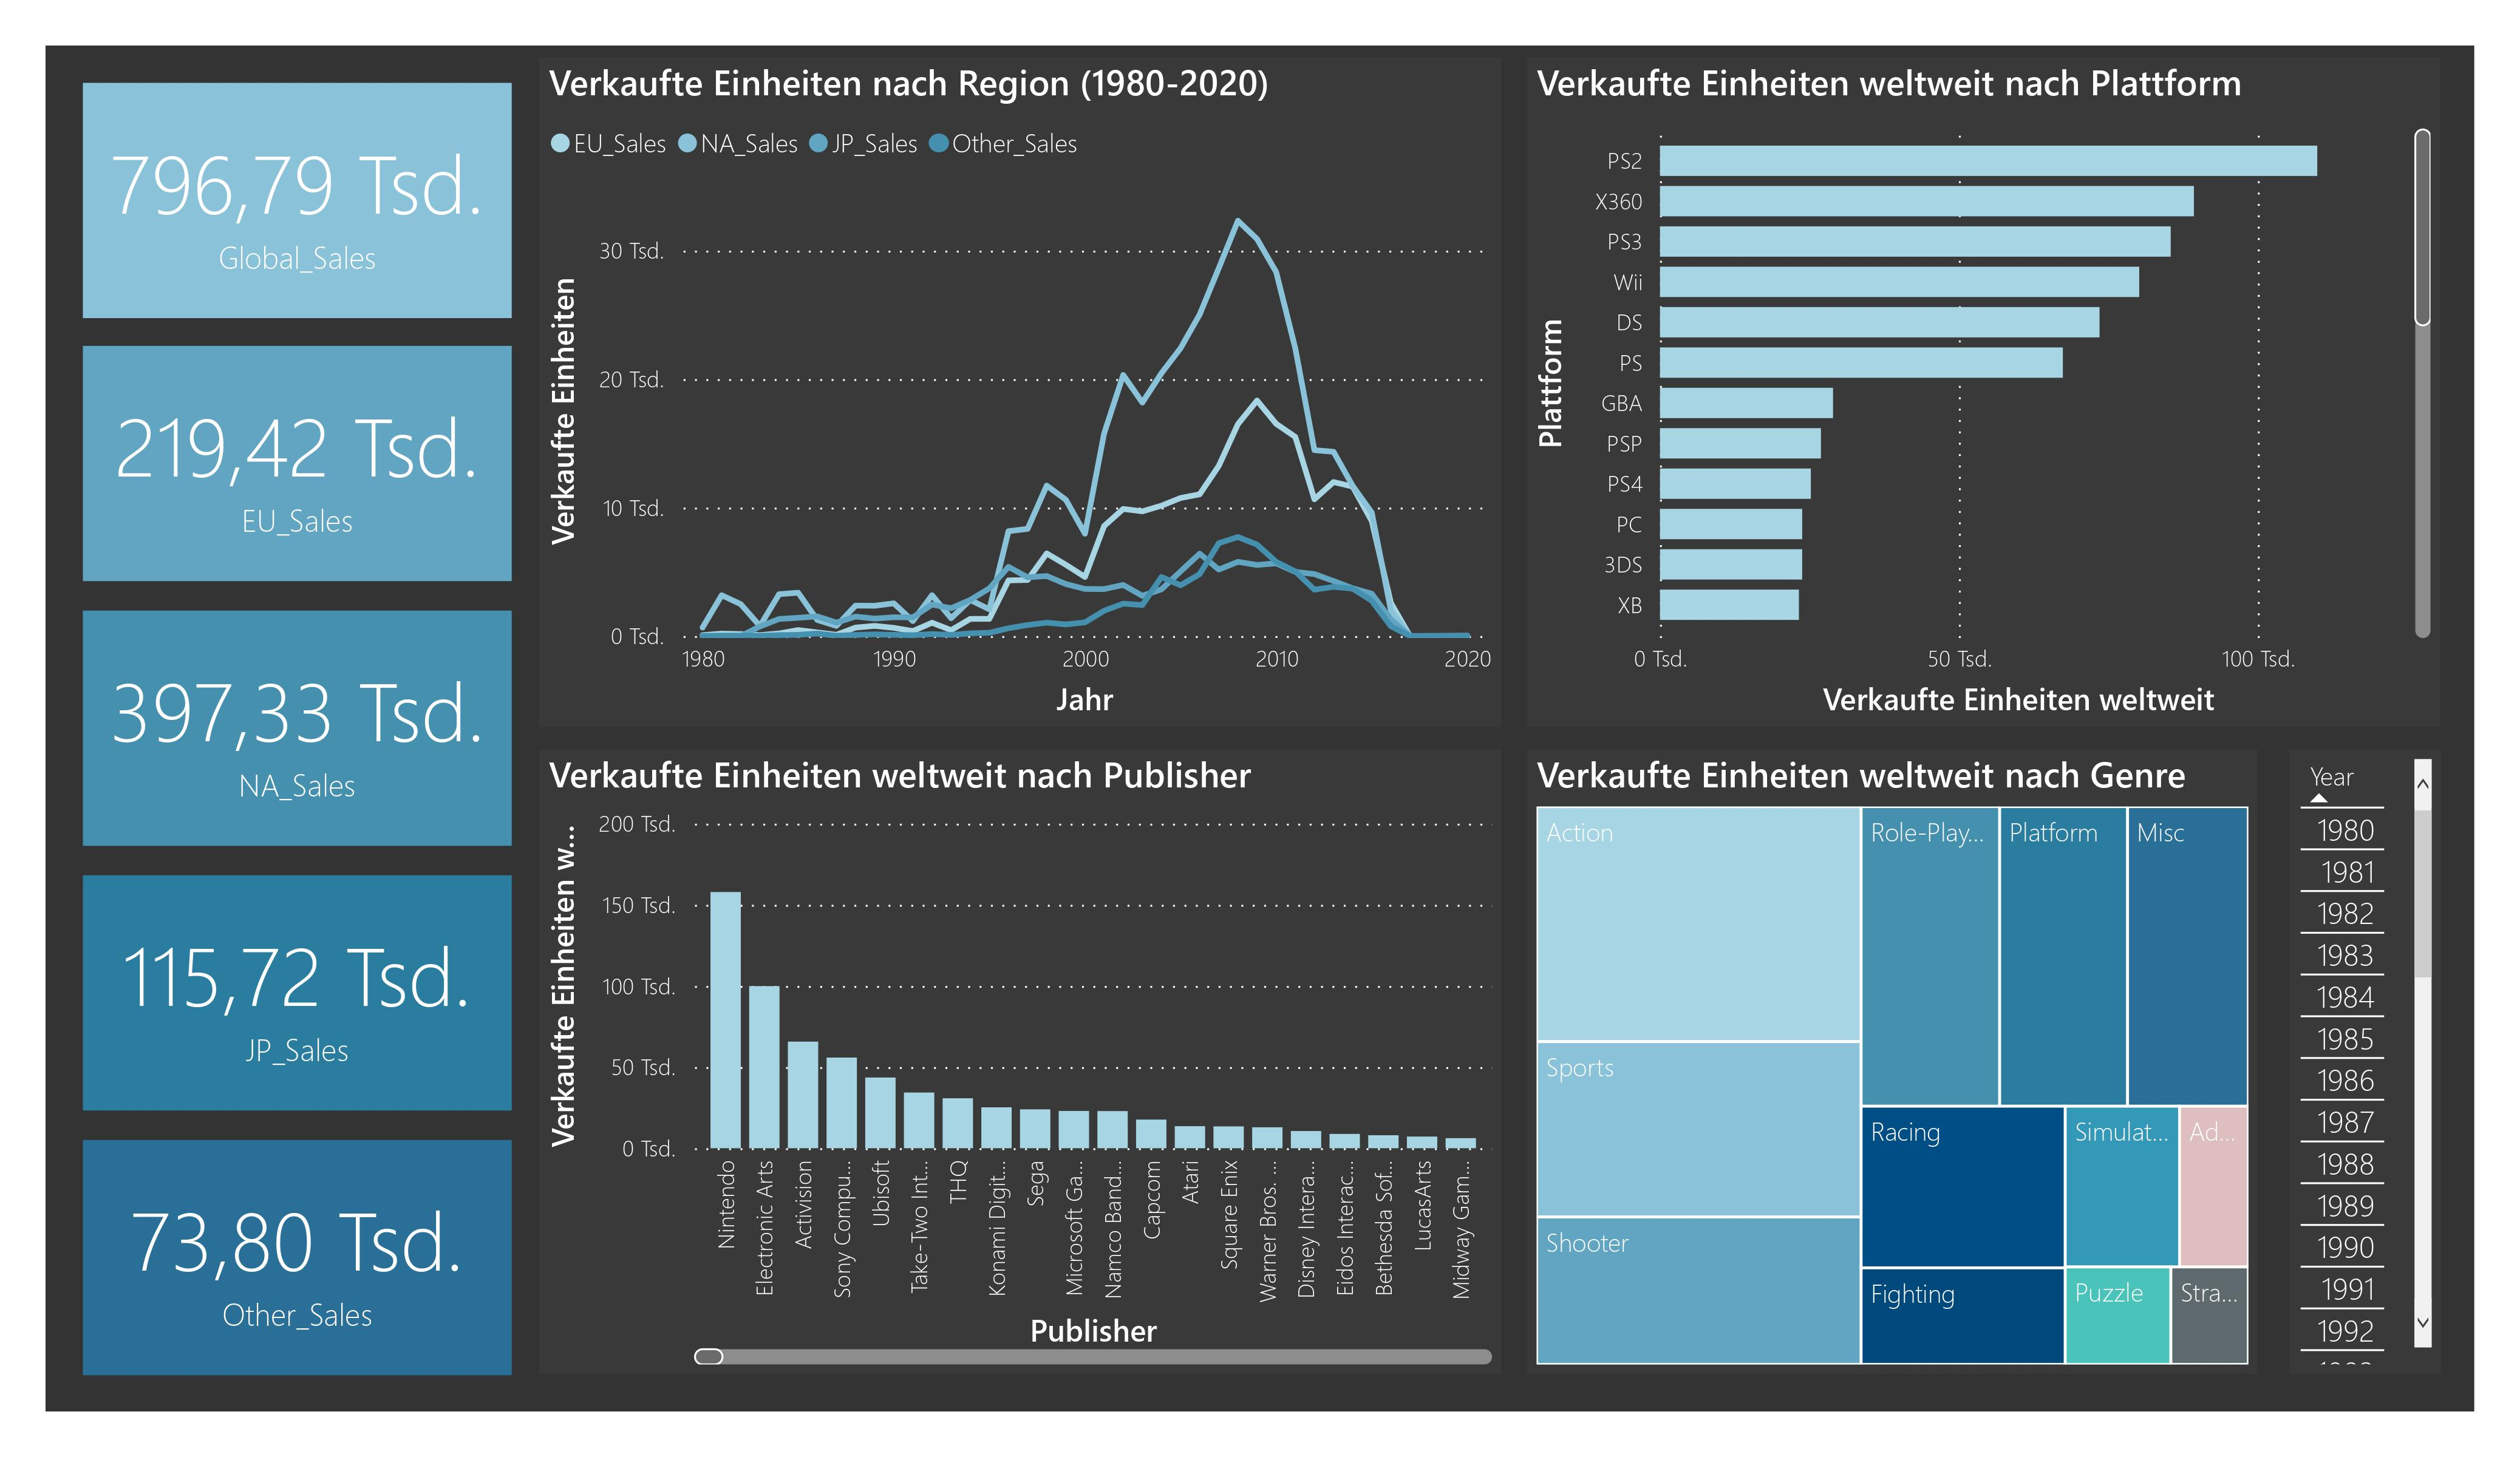

This screenshot's page, from the dashboard's own definition file:
{"tool":"powerbi","page":{"name":"Main","canvas":[1280,720],"ordinal":0},"visuals":[{"type":"card","fields":{"Values":["Sum(vgsales.Global_Sales)"]},"box":[19.5,19.5,225.7,123.5],"z":0},{"type":"card","fields":{"Values":["Sum(vgsales.EU_Sales)"]},"box":[19.5,158.5,225.7,123.5],"z":1000},{"type":"card","fields":{"Values":["Sum(vgsales.NA_Sales)"]},"box":[19.5,297.6,225.7,123.5],"z":2000},{"type":"card","fields":{"Values":["Sum(vgsales.Other_Sales)"]},"box":[19.5,576.8,225.7,123.5],"z":3000},{"type":"card","fields":{"Values":["Sum(vgsales.JP_Sales)"]},"box":[19.5,437.7,225.7,123.5],"z":4000},{"type":"lineChart","title":"Verkaufte Einheiten nach Region (1980-2020)","fields":{"Category":["vgsales.Year"],"Y":["Sum(vgsales.EU_Sales)","Sum(vgsales.NA_Sales)","Sum(vgsales.JP_Sales)","Sum(vgsales.Other_Sales)"]},"box":[260.3,6.3,507.1,353.3],"z":5000},{"type":"barChart","title":"Verkaufte Einheiten weltweit nach Plattform","fields":{"Category":["vgsales.Platform"],"Y":["Sum(vgsales.Global_Sales)"]},"box":[780.8,6.3,481.2,353.3],"z":6000},{"type":"tableEx","fields":{"Values":["vgsales.Year"]},"box":[1182.4,371.2,79.6,329.1],"z":7000},{"type":"columnChart","title":"Verkaufte Einheiten weltweit nach Publisher","fields":{"Category":["vgsales.Publisher"],"Y":["Sum(vgsales.Global_Sales)"]},"box":[260.3,371.2,507.1,329.1],"z":8000},{"type":"treemap","title":"Verkaufte Einheiten weltweit nach Genre","fields":{"Group":["vgsales.Genre"],"Values":["Sum(vgsales.Global_Sales)"]},"box":[780.8,371.2,385.5,329.1],"z":9000}]}

Visuals, with their boxes on the page's 1280x720 design canvas (x1, y1, x2, y2). These are canvas units, not pixel positions in the 2520x1457 screenshot, which may show the page scaled, cropped or inside an application window:
card - Sum(vgsales.Global_Sales): [20,20,245,143]
card - Sum(vgsales.EU_Sales): [20,158,245,282]
card - Sum(vgsales.NA_Sales): [20,298,245,421]
card - Sum(vgsales.Other_Sales): [20,577,245,700]
card - Sum(vgsales.JP_Sales): [20,438,245,561]
"Verkaufte Einheiten nach Region (1980-2020)" lineChart: [260,6,767,360]
"Verkaufte Einheiten weltweit nach Plattform" barChart: [781,6,1262,360]
tableEx - vgsales.Year: [1182,371,1262,700]
"Verkaufte Einheiten weltweit nach Publisher" columnChart: [260,371,767,700]
"Verkaufte Einheiten weltweit nach Genre" treemap: [781,371,1166,700]
